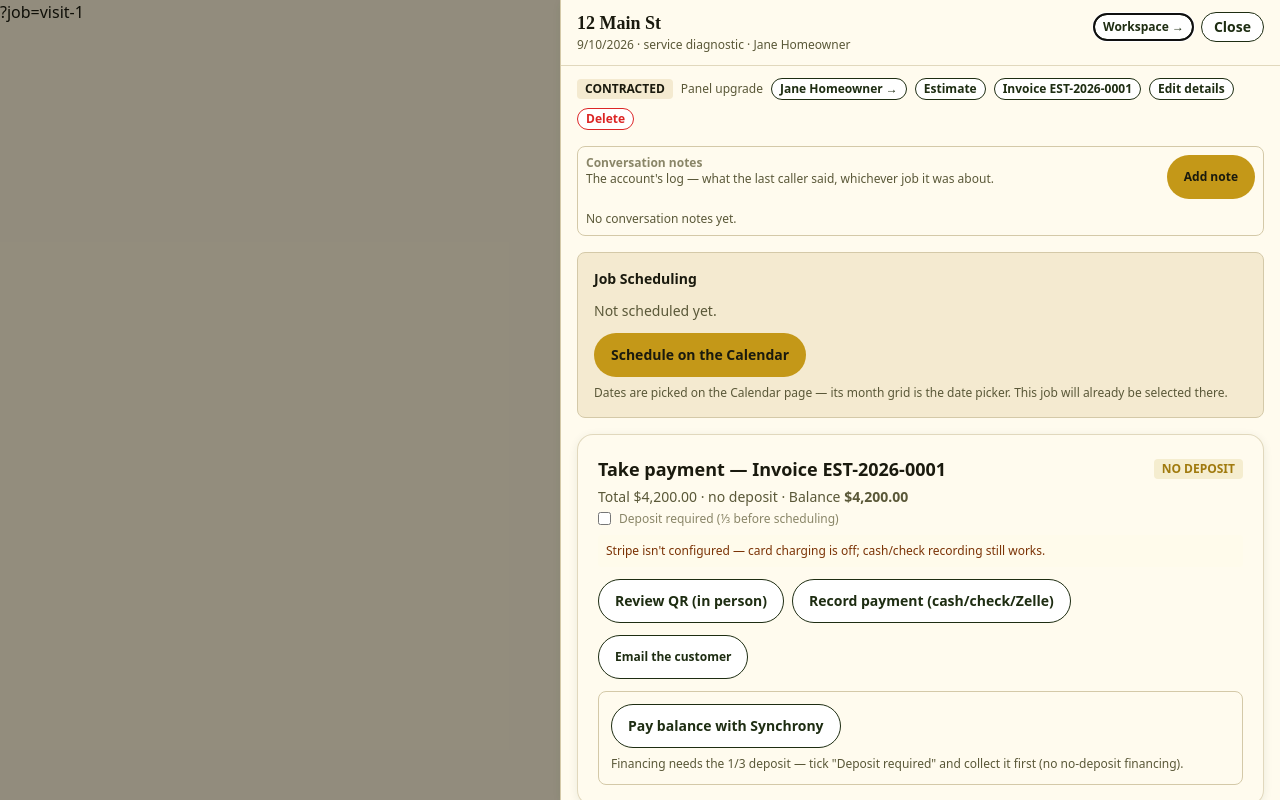
JobDrawer › names the job's invoice and opens its drawer
The width and height of the screenshot is (1280, 800).
// Named after the invoice, so the operator knows which one before clicking.
Click the button "Invoice EST-2026-0001" at (1067, 88), box [994, 78, 1141, 100]
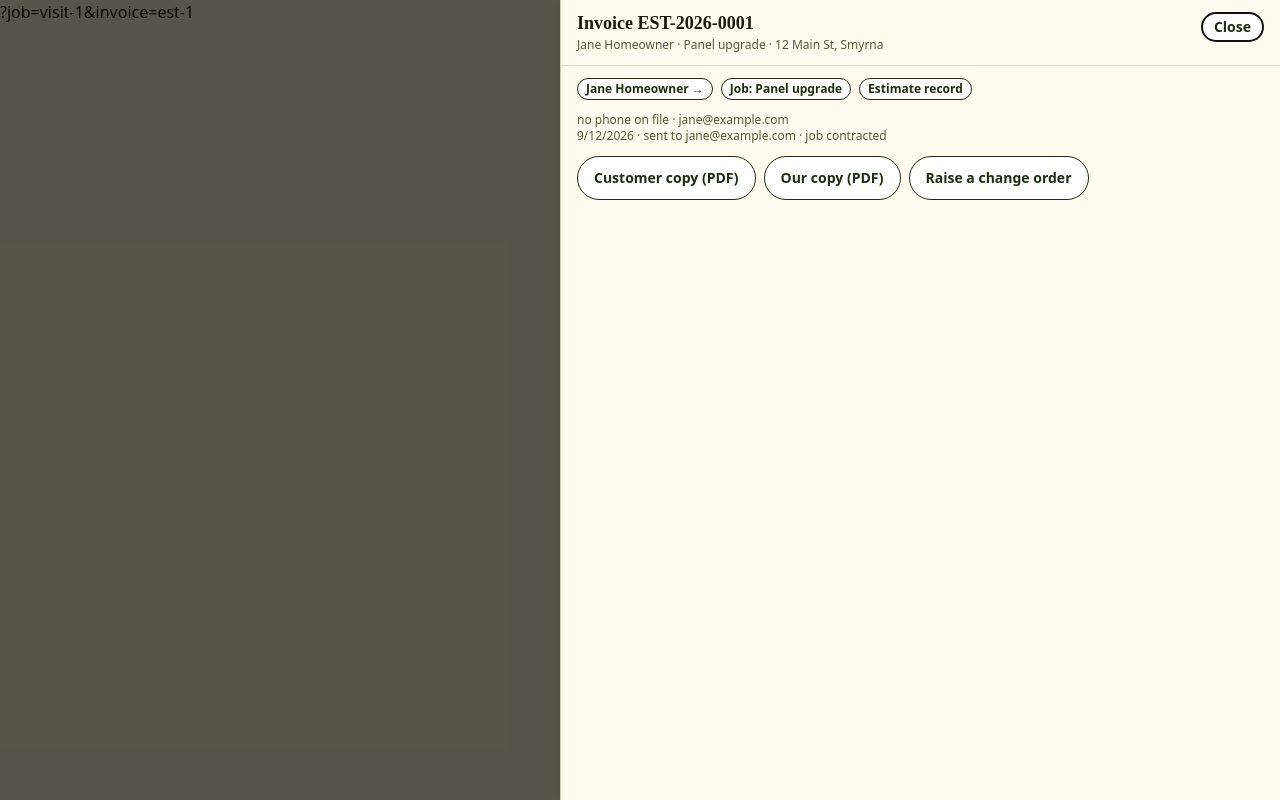
Result: the text with test id "location" reads "?job=visit-1&invoice=est-1" at [0, 1, 194, 23]
Result: the dialog "Invoice EST-2026-0001" is shown at [560, 0, 1279, 799]
